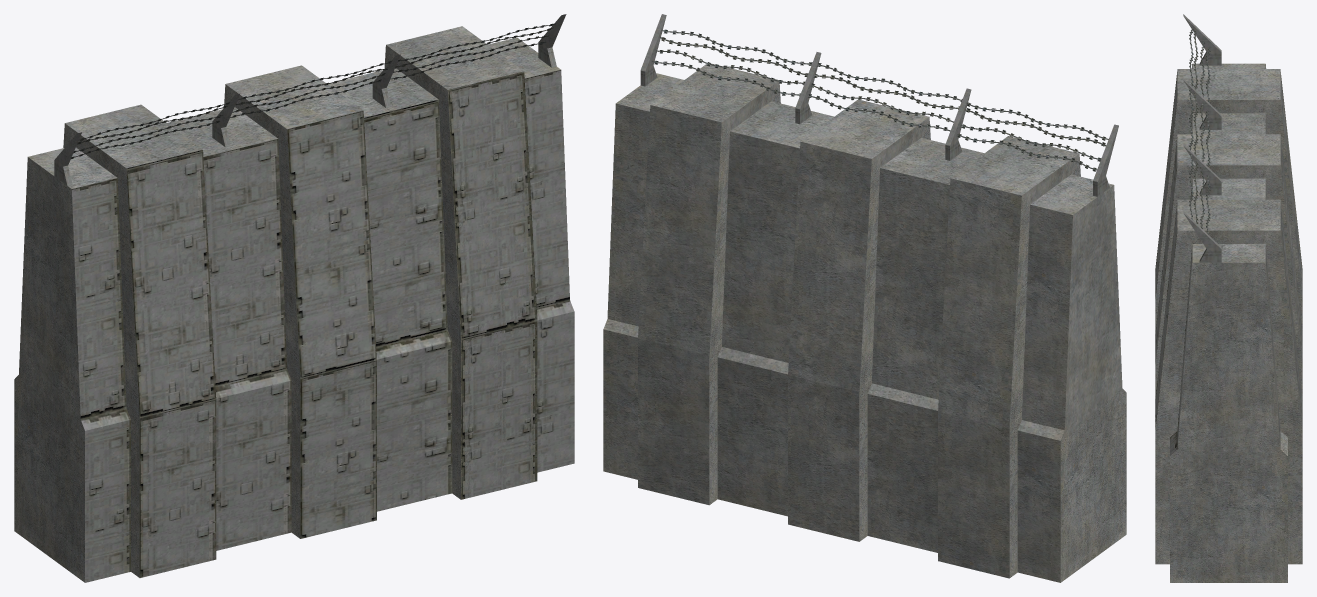
Rendered from mun_all_military_wall_strong_impl_s01_l0.fbx.
The picture shows the model from 3 angles, left to right: view 1: azimuth 30°, elevation 25°; view 2: azimuth 150°, elevation 25°; view 3: azimuth 270°, elevation 25°; orthographic projection. The views are drawn at different scales.
Parts seen in each view (by area): view 1: mesh_node; view 2: mesh_node; view 3: mesh_node.
Part boxes in pixels (<box>): mesh_node: <box>14,14,574,582</box>; mesh_node: <box>603,14,1126,582</box>; mesh_node: <box>1155,14,1302,582</box>.
Size of the model in its own units: 8 by 6.93 by 2.5.
